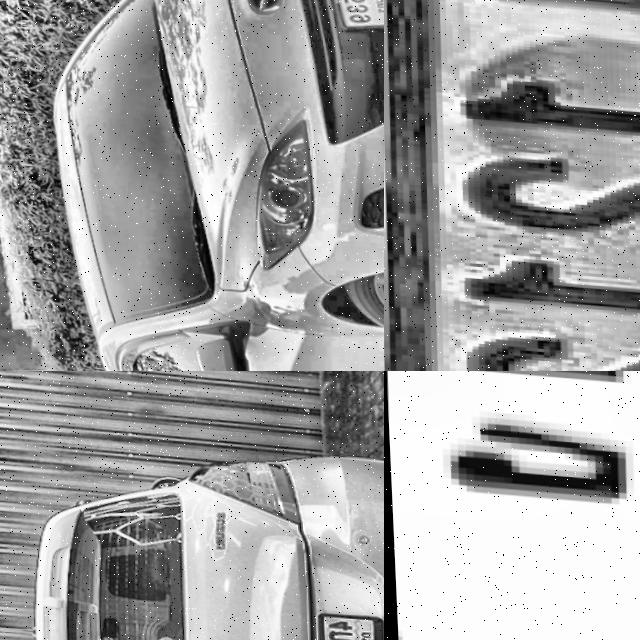license-plate: (384, 0, 640, 371), (384, 371, 640, 640), (310, 604, 384, 640), (314, 0, 384, 28)
